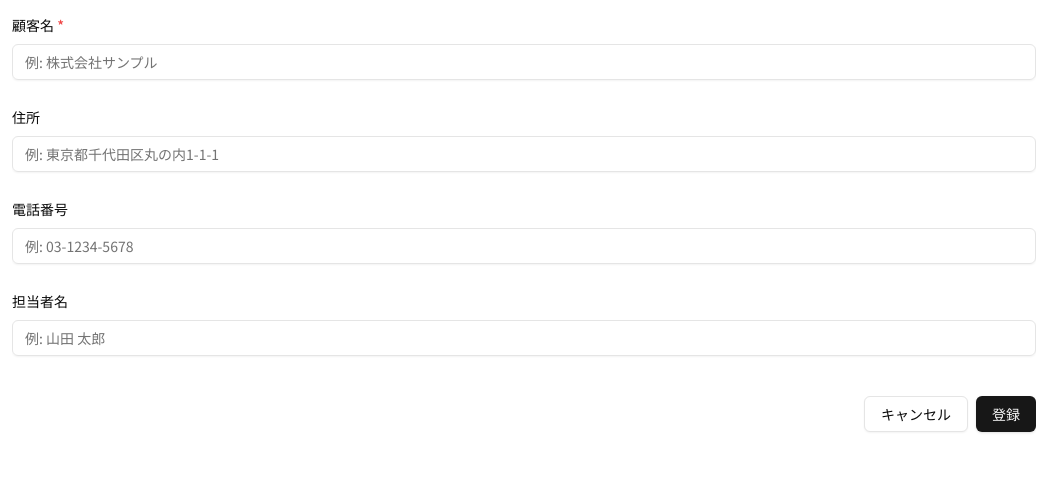
Scenario: CustomerForm › validation › should show error when customer_name is empty on submit
Step 1. Click the button "登録" → (1006,414), box [976,396,1036,432]
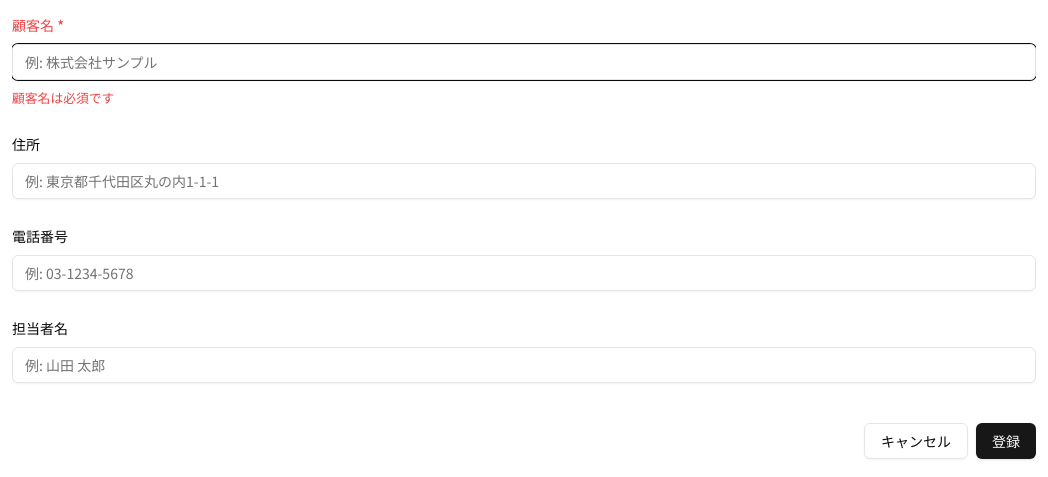
Expected: the text "顧客名は必須です" is shown, [12,88,114,107]
